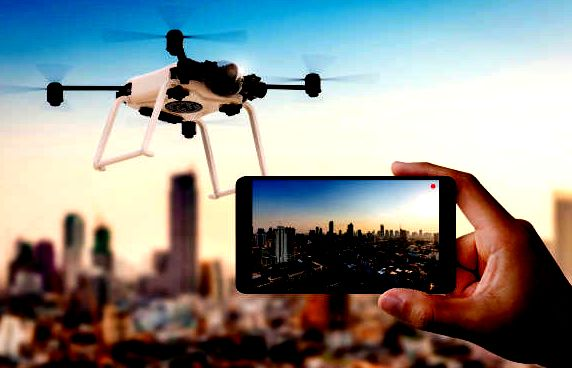Drone: (9, 13, 384, 152)
